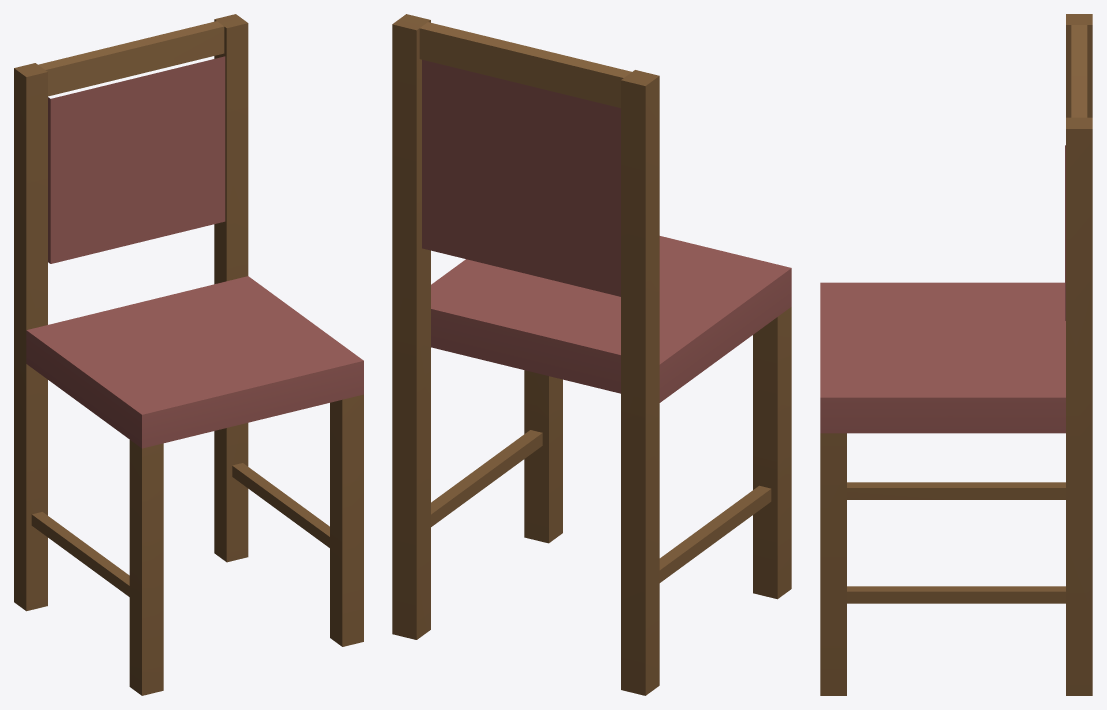
The model's file is seat.chair_cushion.rose.glb.
3 views of the same model, side by side, from view 1: azimuth 30°, elevation 25°; view 2: azimuth 150°, elevation 25°; view 3: azimuth 270°, elevation 25° (orthographic). The views are drawn at different scales.
Visible parts, largest first — view 1: seat_chair_cushion_rose; view 2: seat_chair_cushion_rose; view 3: seat_chair_cushion_rose.
Boxes of the visible parts, x1,y1,x2,y2 form: seat_chair_cushion_rose: [14, 14, 363, 695]; seat_chair_cushion_rose: [392, 14, 791, 695]; seat_chair_cushion_rose: [820, 14, 1092, 695].
Size of what is drawn, in the model's own units: 0.413 by 0.95 by 0.413.
